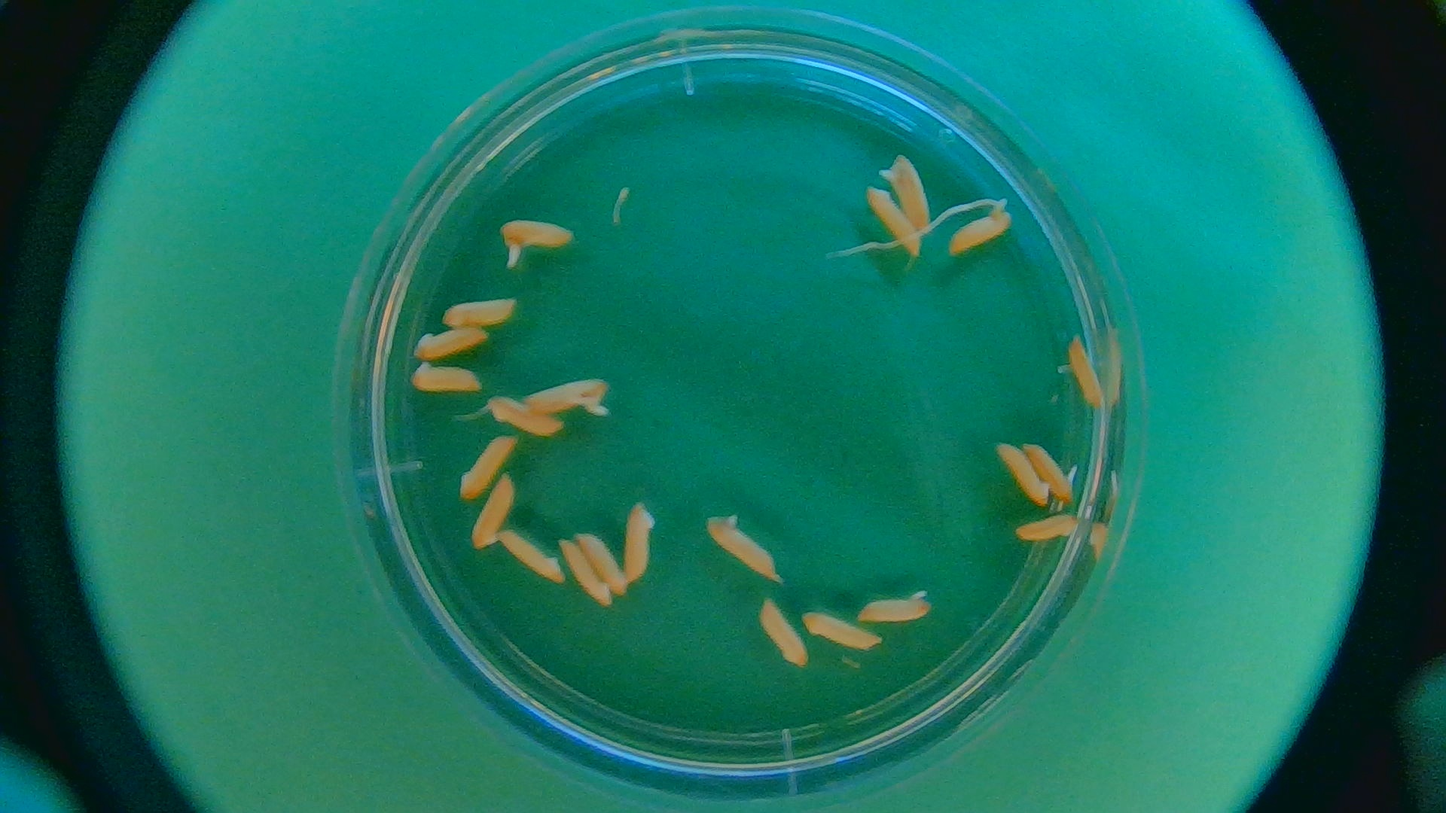no: (862, 185, 921, 263), (709, 513, 775, 579), (576, 525, 630, 596), (496, 526, 566, 580), (757, 599, 813, 666), (458, 434, 514, 499), (469, 477, 517, 549), (490, 393, 565, 437), (560, 539, 609, 605), (621, 500, 658, 586), (415, 321, 491, 362), (1001, 443, 1051, 504), (1066, 337, 1109, 406), (804, 611, 883, 647), (859, 590, 932, 626), (1015, 511, 1085, 545), (444, 298, 517, 330), (410, 361, 486, 391)
yes: (883, 155, 936, 230), (521, 377, 606, 416), (947, 206, 1012, 254), (1027, 443, 1079, 499), (502, 216, 573, 254)
